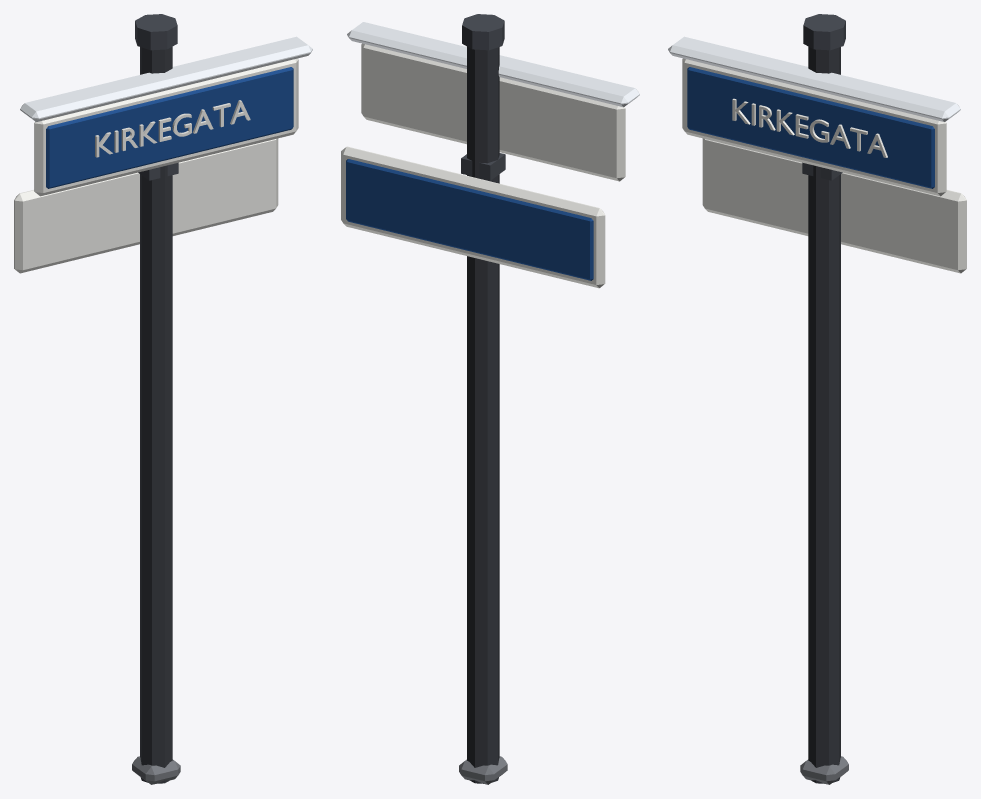
File: street_sign.glb
The picture shows the model from 3 angles, left to right: view 1: azimuth 30°, elevation 25°; view 2: azimuth 150°, elevation 25°; view 3: azimuth 330°, elevation 25°; orthographic projection.
Visible parts, largest first — view 1: street_sign; view 2: street_sign; view 3: street_sign.
Part boxes in pixels (x1=…): street_sign: x1=14, y1=14, x2=312, y2=784; street_sign: x1=341, y1=14, x2=639, y2=784; street_sign: x1=668, y1=14, x2=966, y2=784.
Size of the model in its own units: 0.96 by 2.46 by 0.1975.
